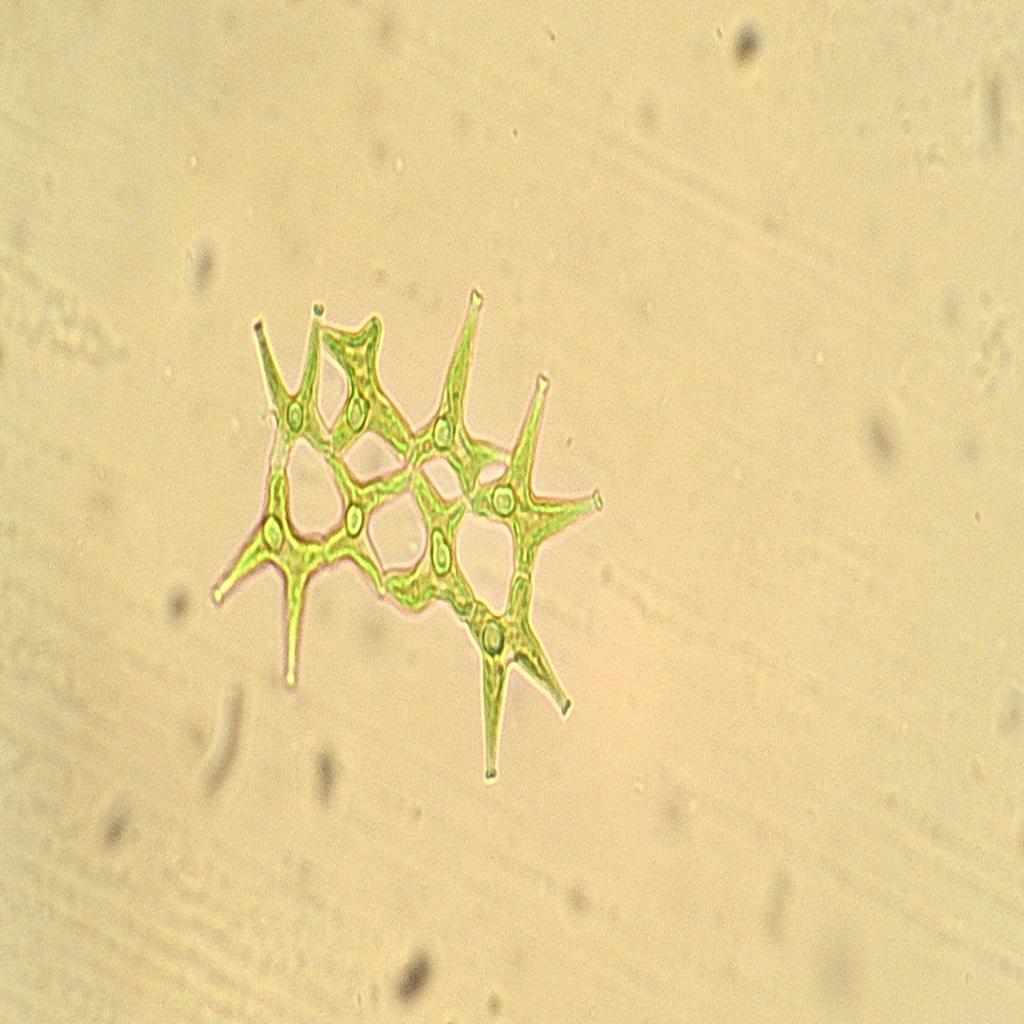Pediastrum_CFI: (204, 275, 610, 796)
